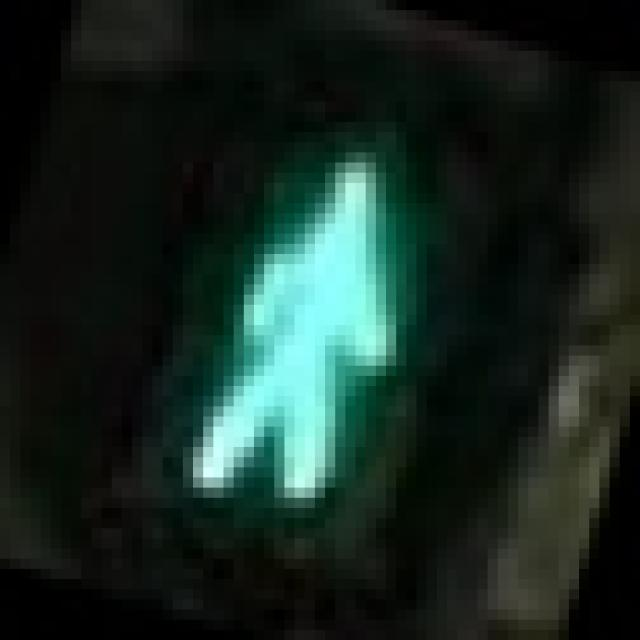green_light: (102, 61, 508, 559)
